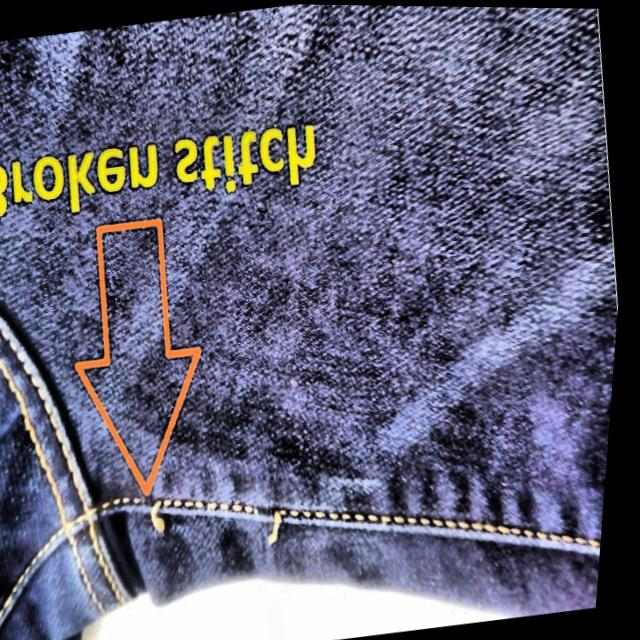Stitch: (138, 474, 317, 573)
